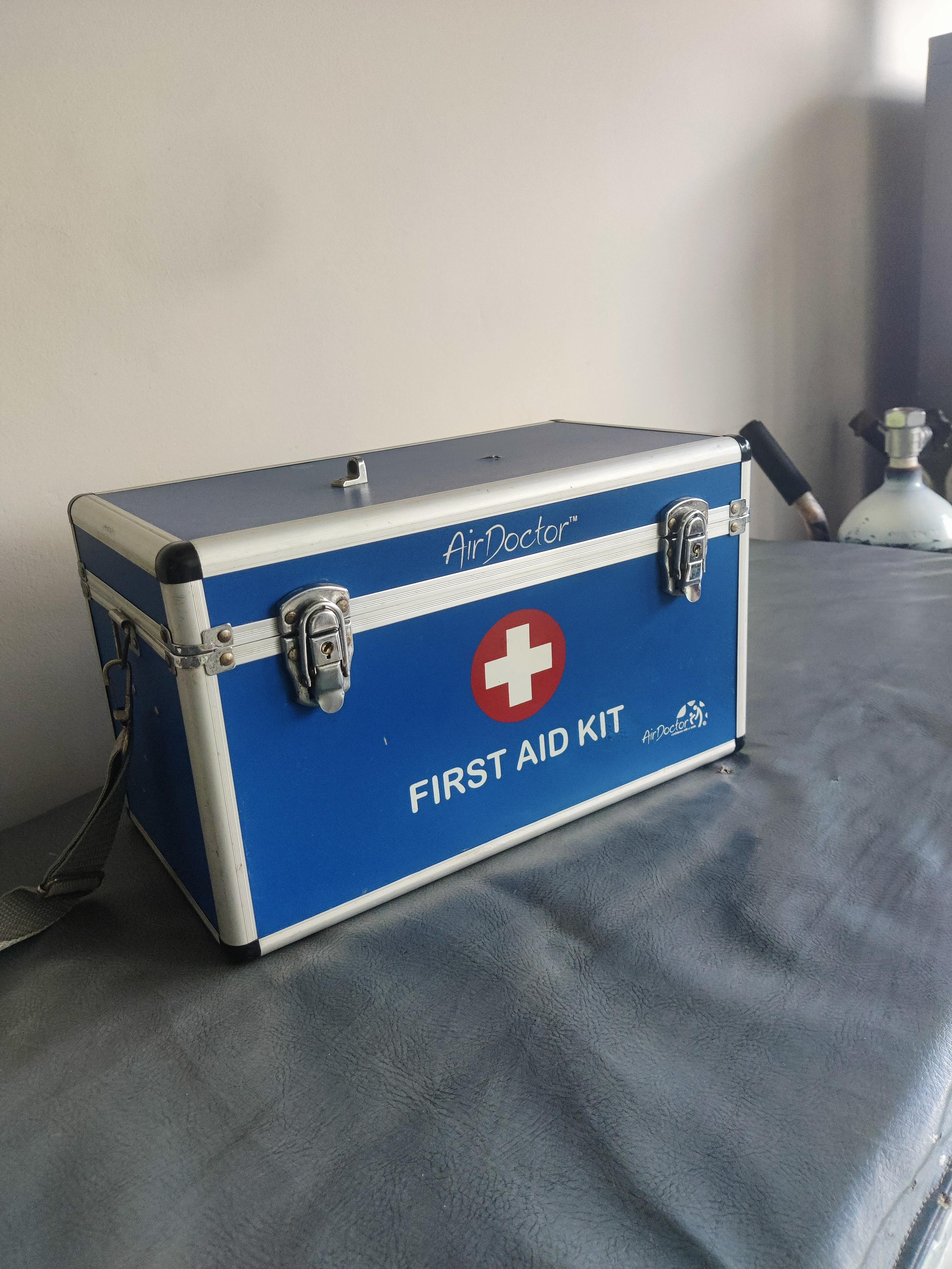FirstAidBox: (33, 401, 794, 973)
